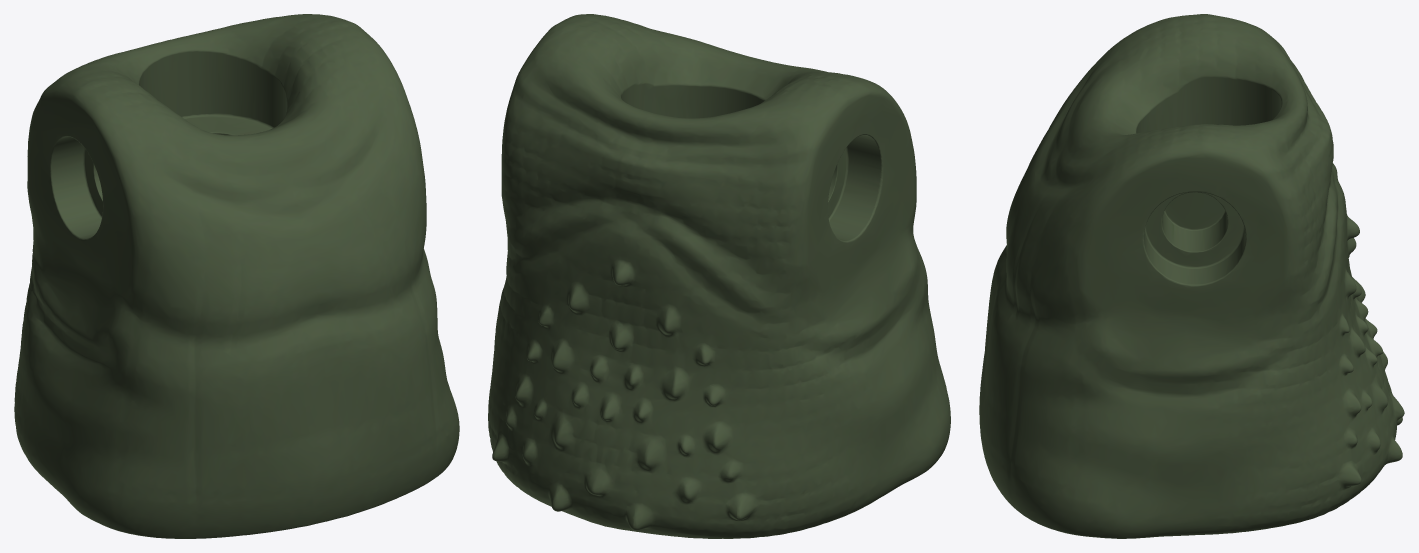
File: Buste_Crocodile.glb
The picture shows the model from 3 angles, left to right: view 1: azimuth 30°, elevation 25°; view 2: azimuth 150°, elevation 25°; view 3: azimuth 270°, elevation 25°; orthographic projection. The views are drawn at different scales.
Parts seen in each view (by area): view 1: Buste_Crocodile; view 2: Buste_Crocodile; view 3: Buste_Crocodile.
Boxes of the visible parts, left/top/right/bottom form: Buste_Crocodile: left=14, top=14, right=459, bottom=538; Buste_Crocodile: left=488, top=14, right=950, bottom=538; Buste_Crocodile: left=979, top=14, right=1404, bottom=538.
Size of the model in its own units: 3.63 by 3.69 by 3.75.
